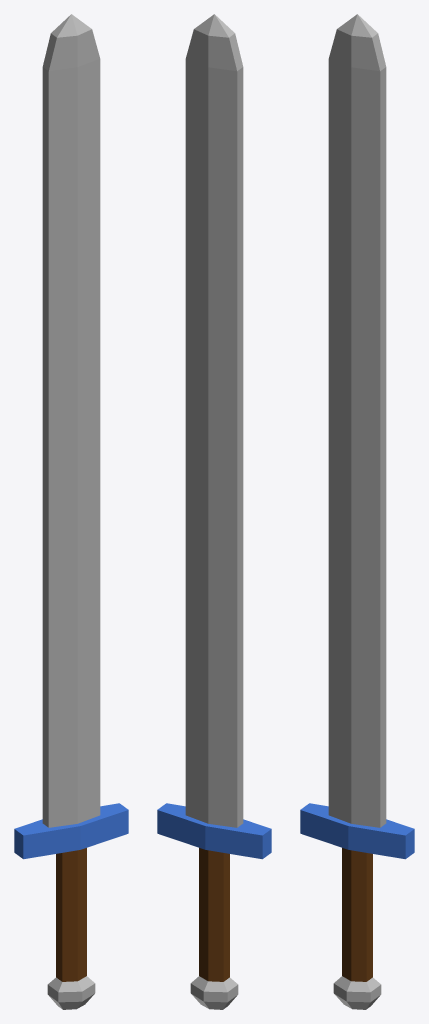
File: Weapon_SwordUV.fbx
3 views of the same model, side by side, from view 1: azimuth 30°, elevation 25°; view 2: azimuth 150°, elevation 25°; view 3: azimuth 330°, elevation 25° (orthographic).
Parts seen in each view (by area): view 1: Cylinder.001; view 2: Cylinder.001; view 3: Cylinder.001.
Boxes of the visible parts, x1,y1,x2,y2 form: Cylinder.001: (14, 14, 128, 1009); Cylinder.001: (157, 14, 271, 1009); Cylinder.001: (300, 14, 414, 1009).
Bounding box in the file's own units: 15.85 × 143 × 5.57.
